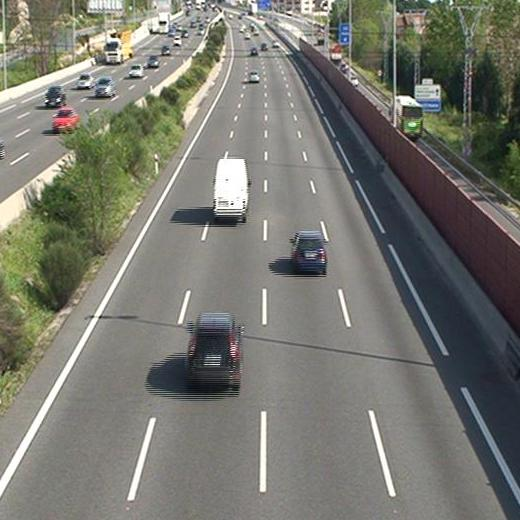car: (185, 315, 242, 383), (290, 232, 326, 272), (249, 71, 259, 82), (248, 48, 256, 57)
van: (212, 158, 248, 219)
